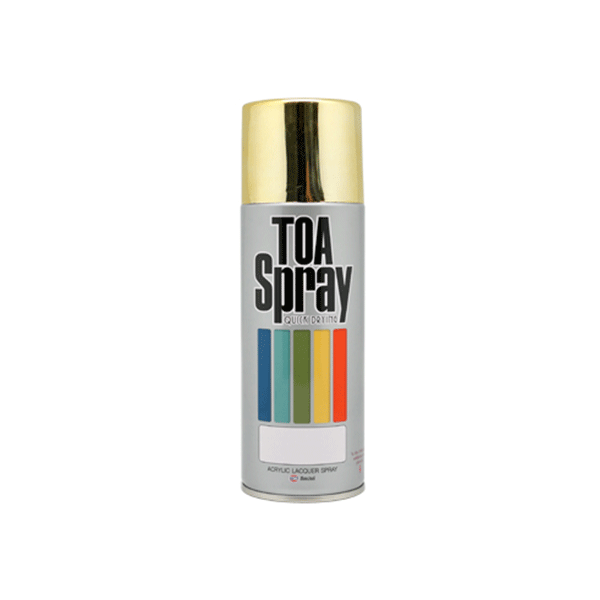Aerosol_cans: (236, 93, 371, 509)
